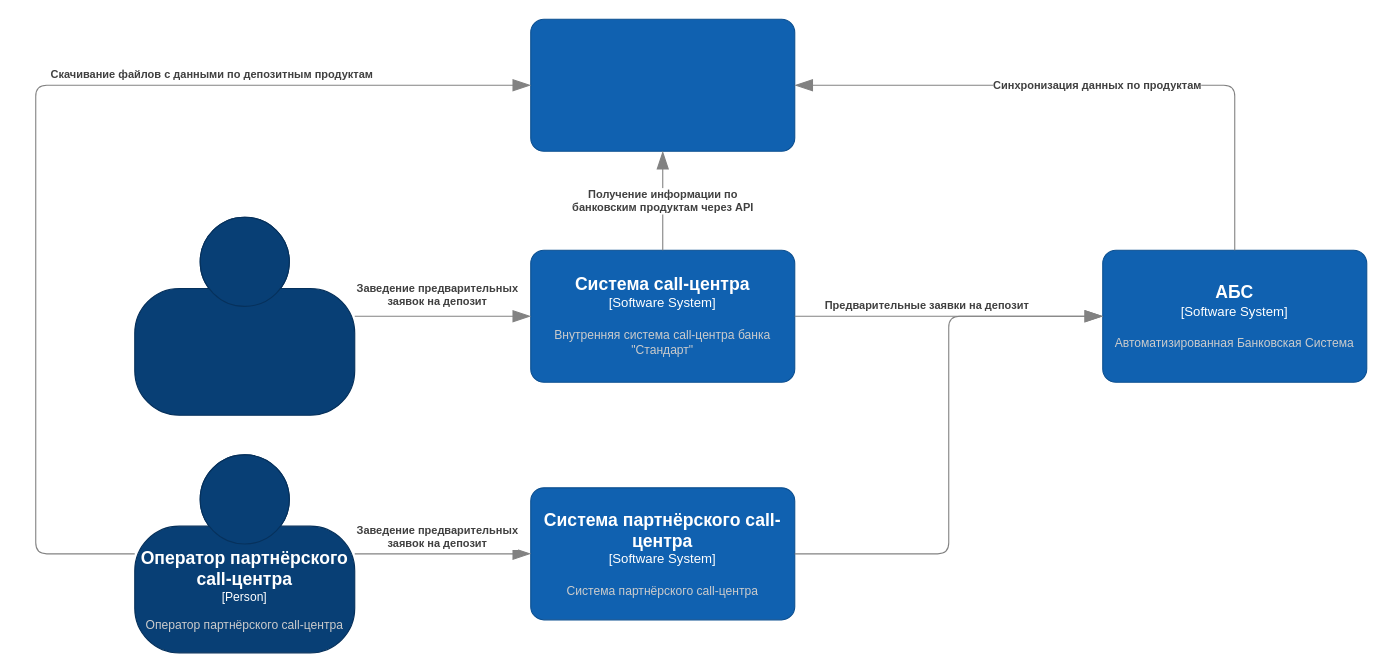
This 1386x672 diagram has some shape labels left out. The shapes that lost their labels are listed below. From the top down, each one's box as (x1, y1, x2, y2) in pixels, then its label:
(530, 18, 795, 151): Сайт [Web-приложение] Сайт
(134, 216, 355, 415): Оператор call-центра [Person] Оператор call-центра
